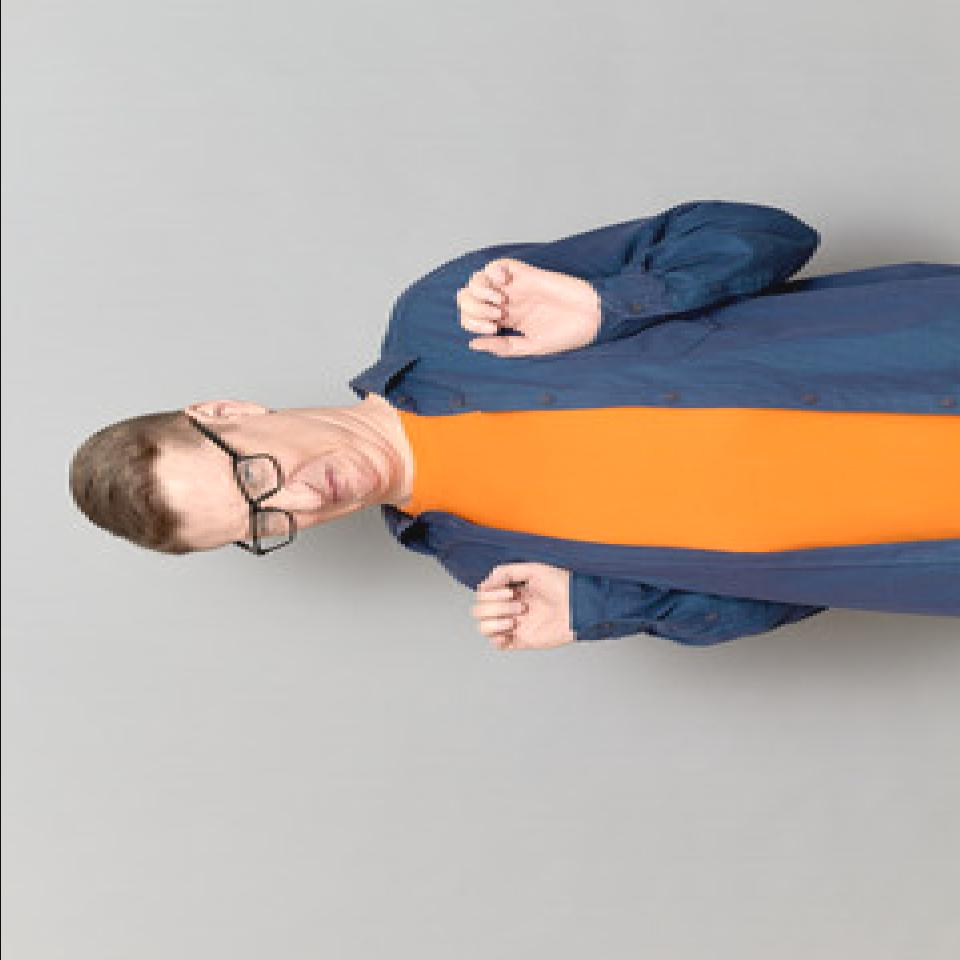Disgust: (164, 412, 385, 552)
